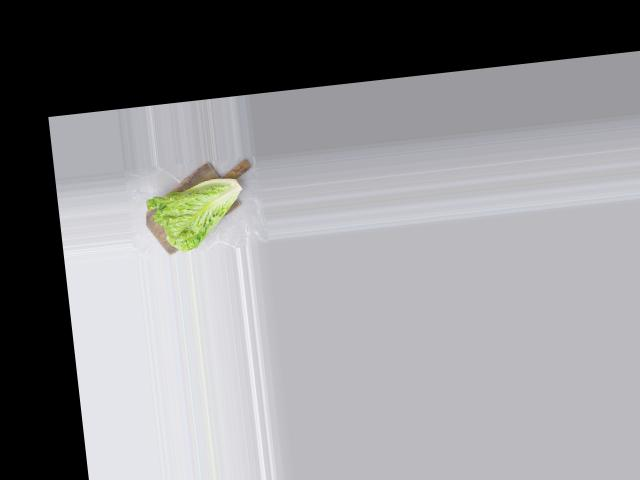lettuce: (143, 165, 252, 254)
